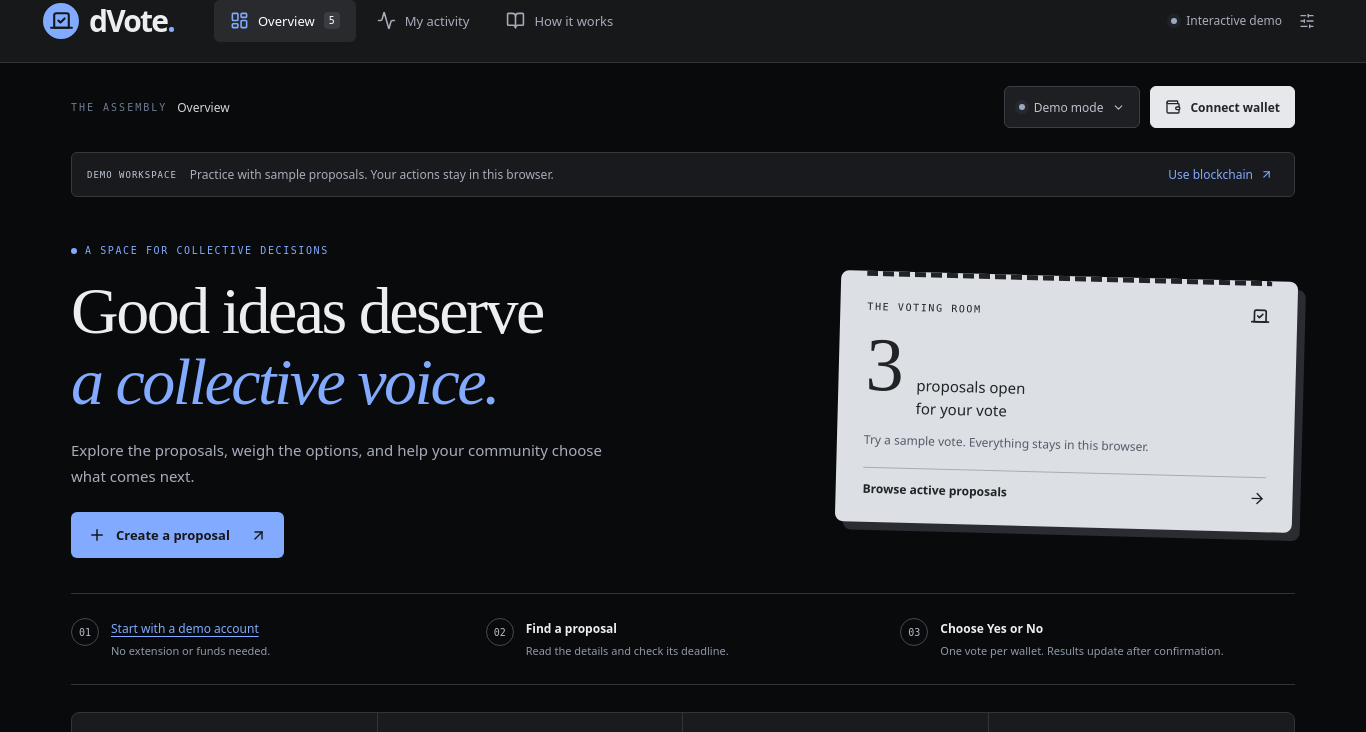
dVote user flows › refreshes confirmed votes even while an older background read is pending
Click the button "Use blockchain". click: (1221, 174)
box: [1162,165,1279,184]
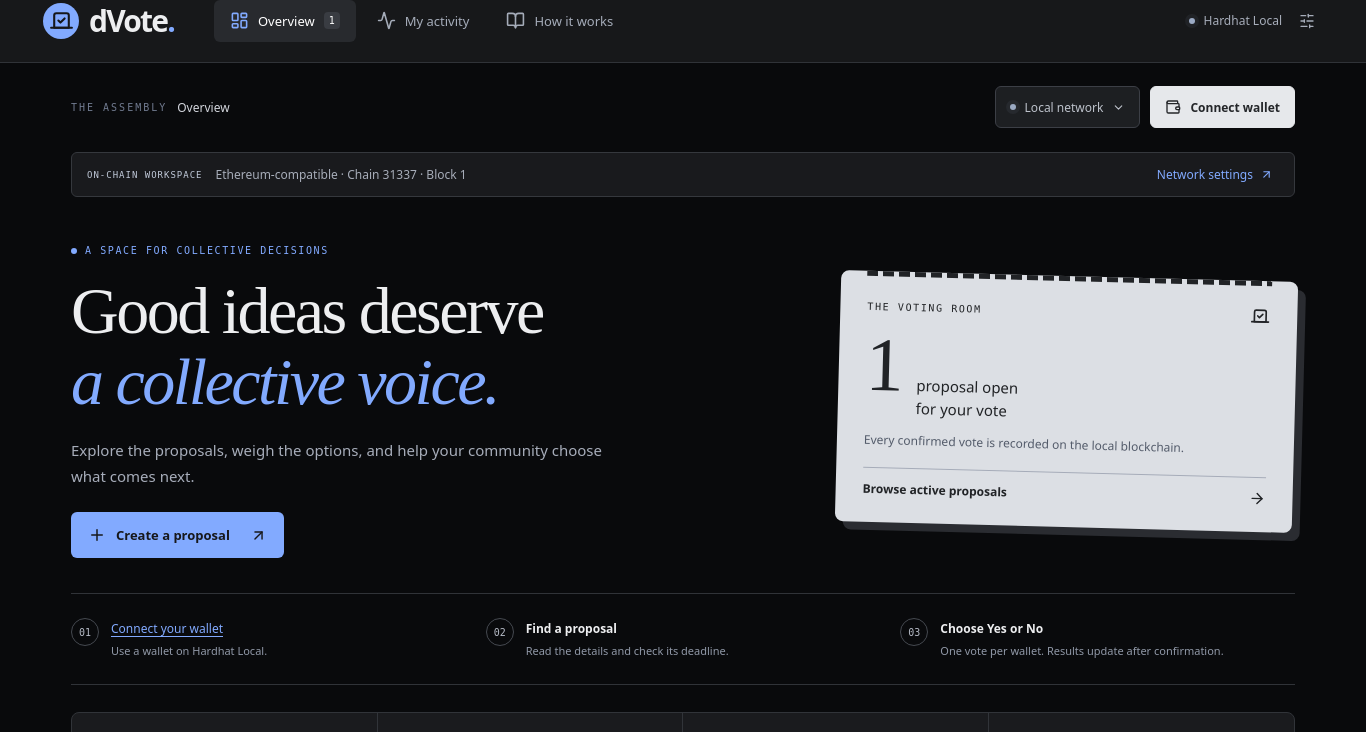
Click the button "Connect wallet". click: (1223, 107)
box: [1150,86,1295,128]
(page scrolled)
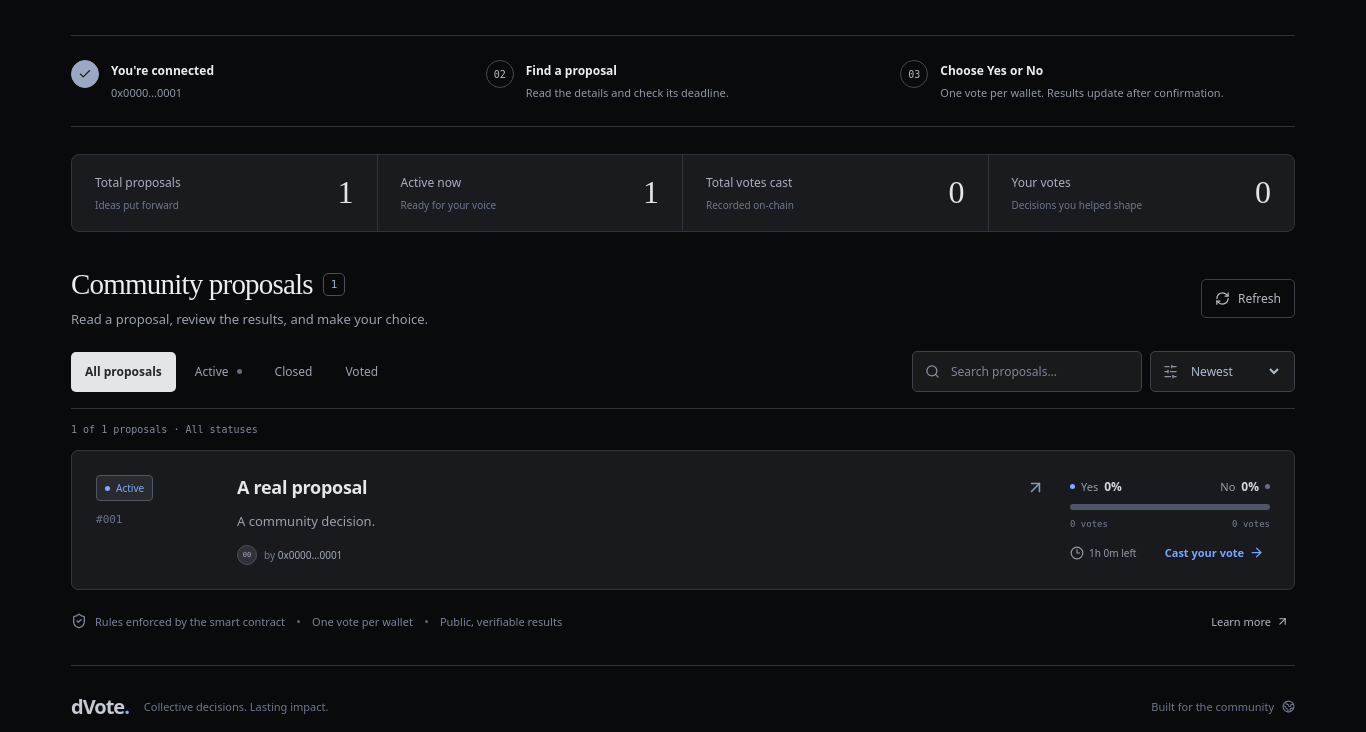
Click the button "A real proposal". click: (302, 487)
box: [237,475,1045,501]
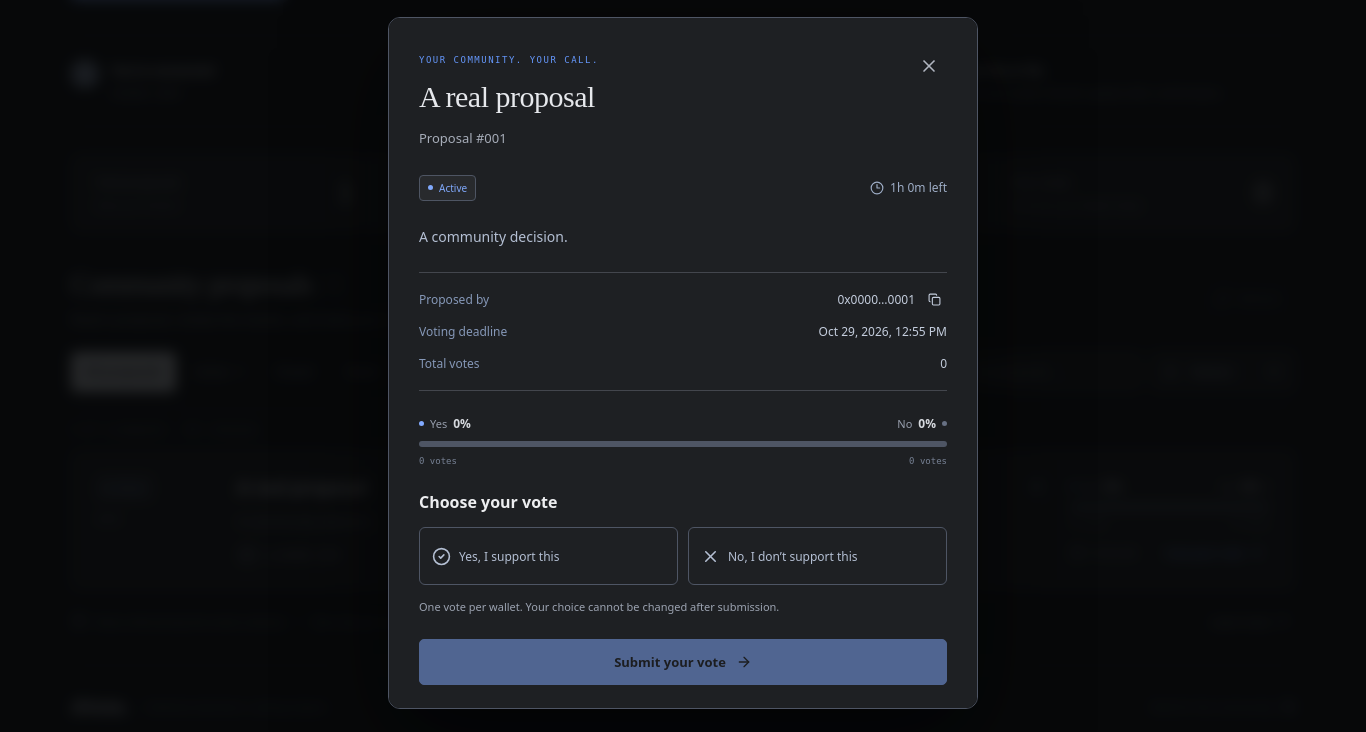
Click the button "Yes, I support this". click: (548, 556)
box: [419,527,678,585]
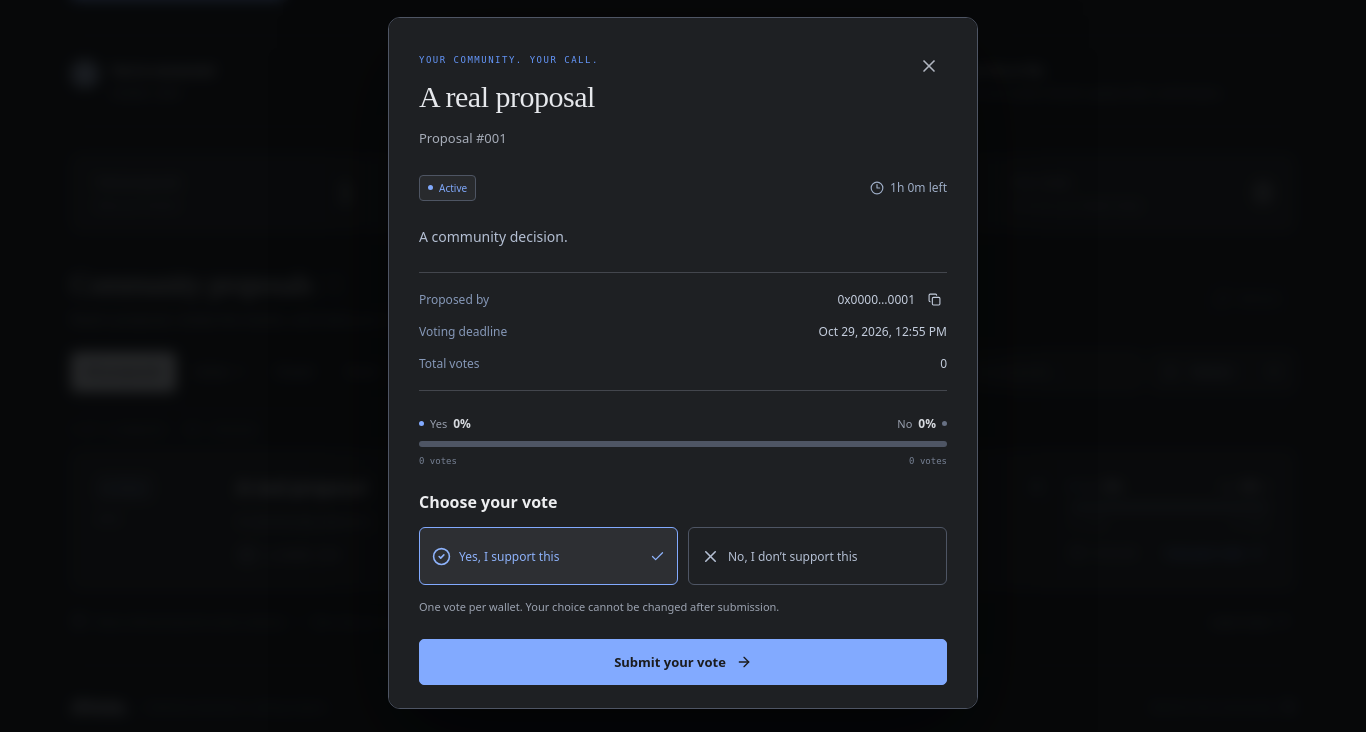
Click the button "Submit your vote". click: (683, 662)
box: [419,639,947,685]
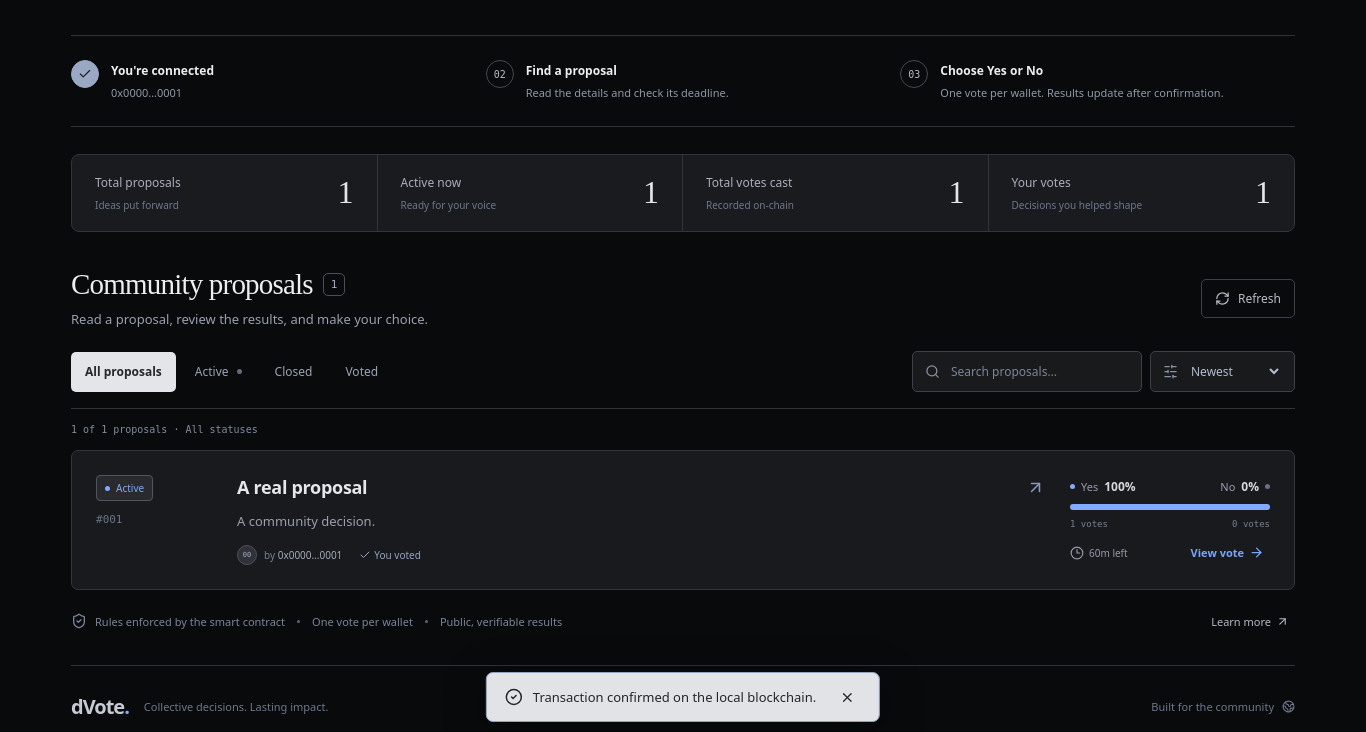
Check: the button "View vote" is shown, box [1185,544,1270,561]
Check: the button "Cast your vote" is gone
